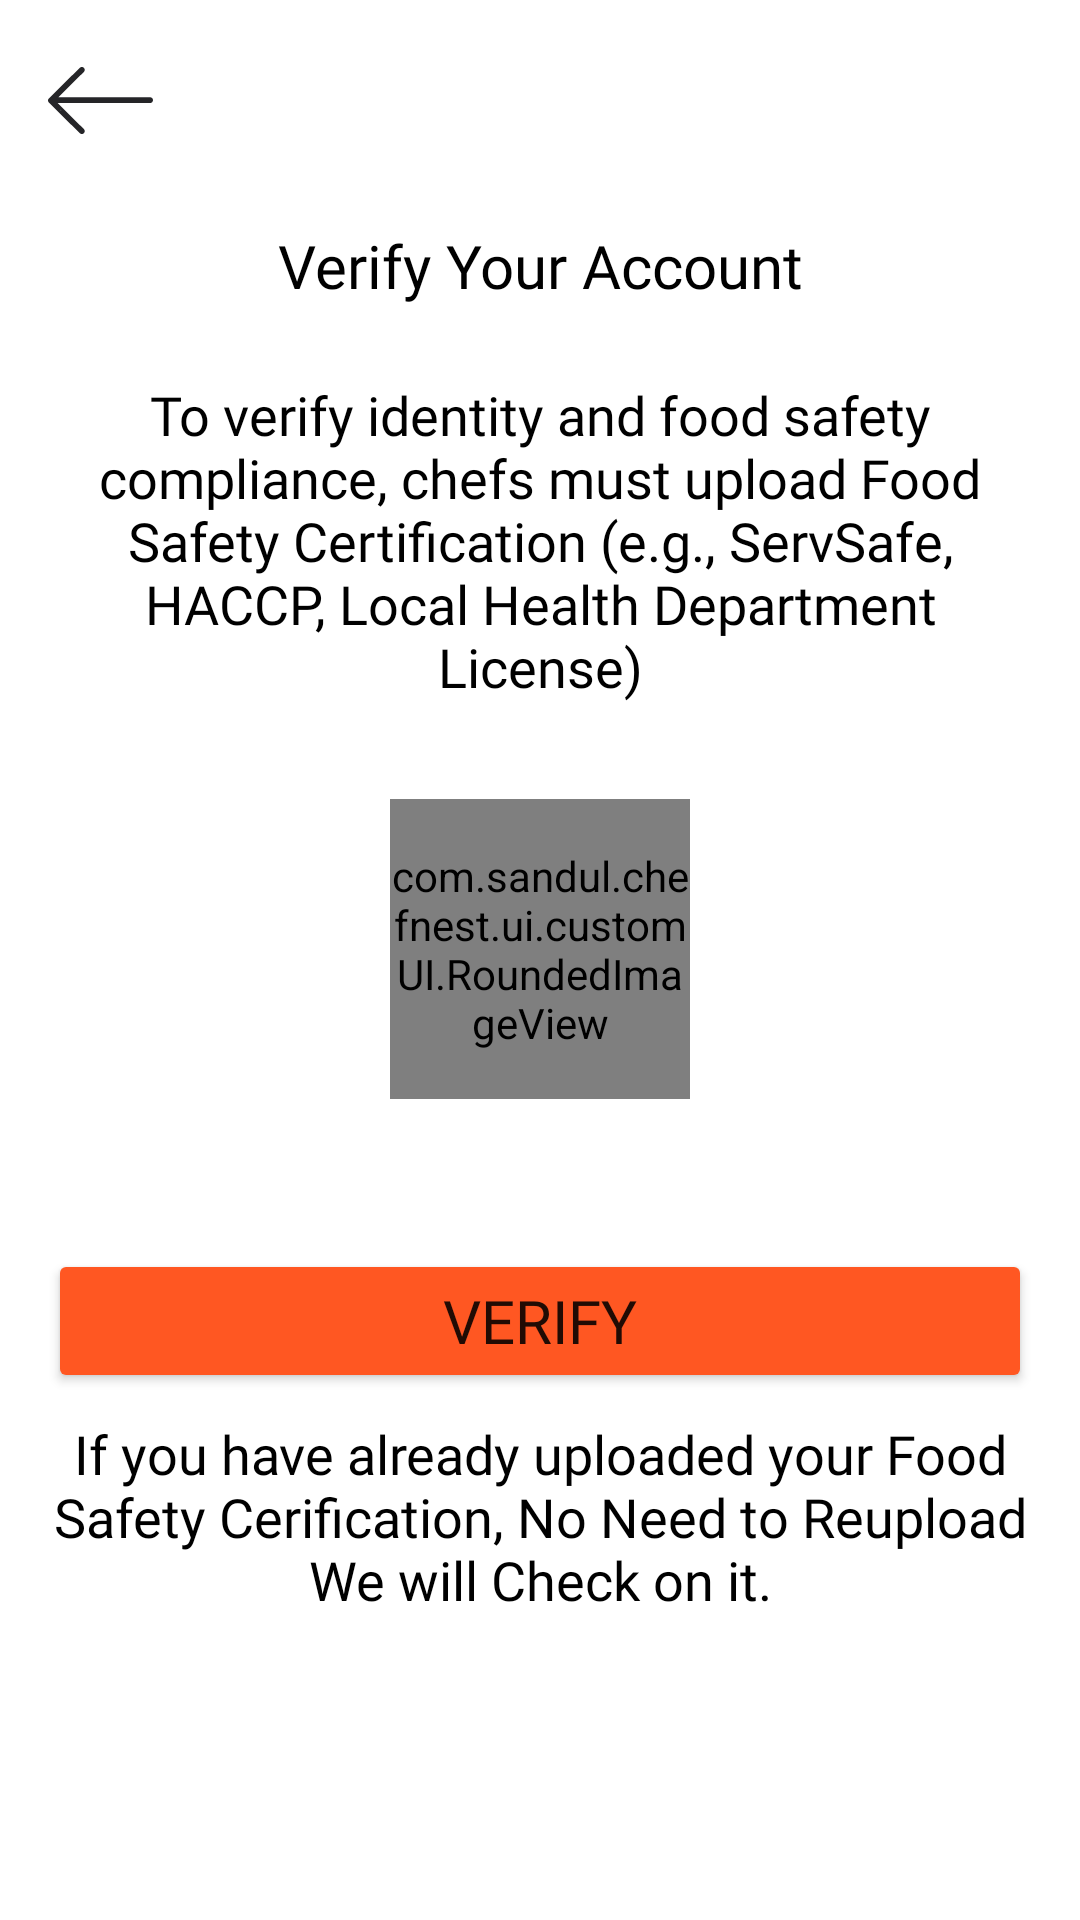

Named icons in this screenshot (1080 x 1920) and their centers, (x=x, y=y):
left arrow: (x=100, y=100)
